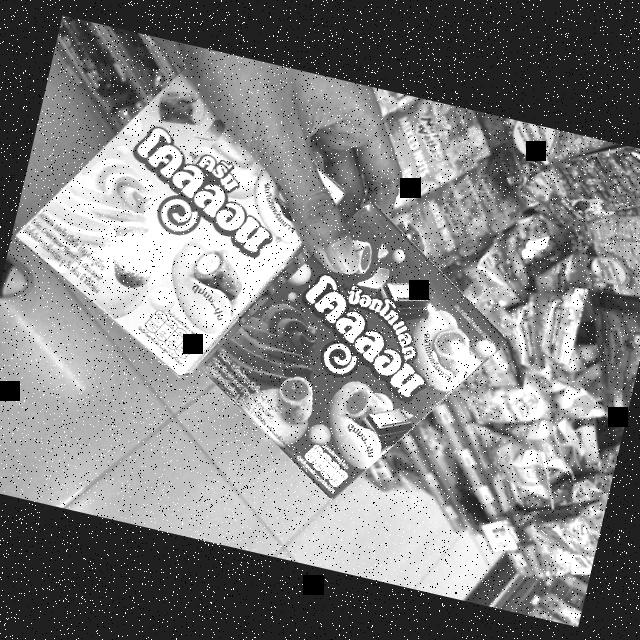cardboard_box: (2, 38, 364, 406), (172, 173, 536, 536)
